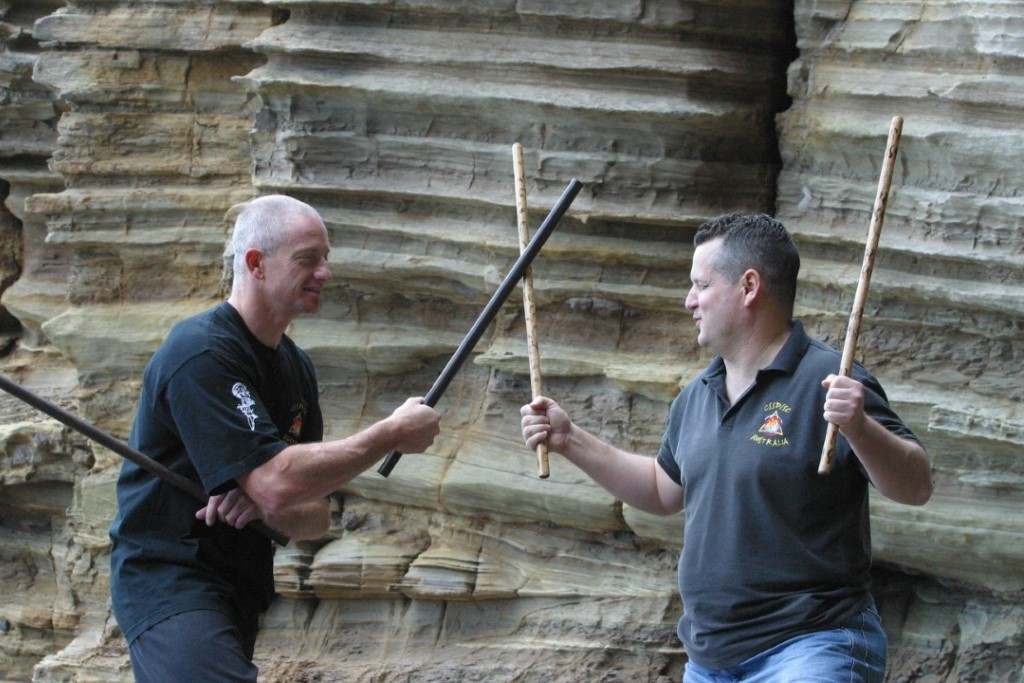baston_e: (394, 182, 568, 480), (4, 373, 270, 543), (819, 123, 905, 465), (508, 150, 551, 469)
baston_v: (372, 455, 402, 487), (271, 526, 294, 560), (886, 103, 909, 128), (564, 169, 585, 196), (502, 136, 527, 158), (812, 459, 835, 481), (533, 467, 556, 485)
